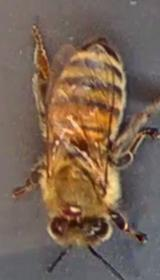varroa_mite: (58, 198, 88, 218)
